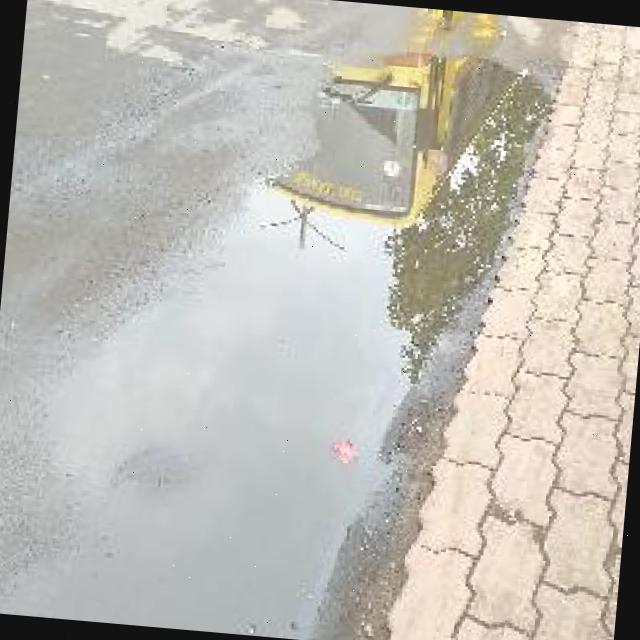stagnation: (0, 27, 549, 636)
